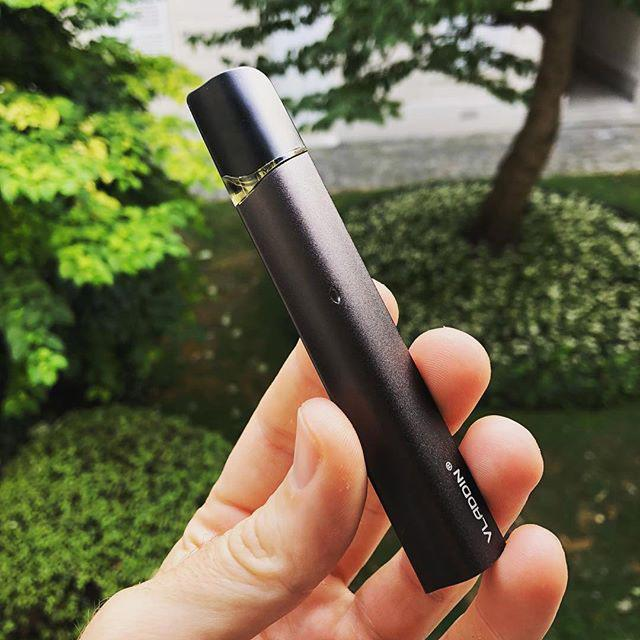Hazard: (186, 66, 508, 592)
